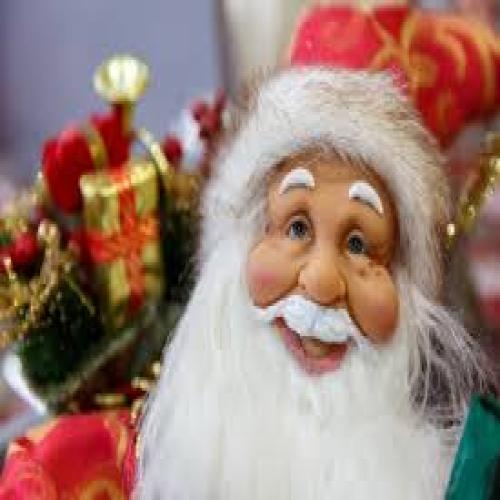Santa: (286, 3, 498, 153)
